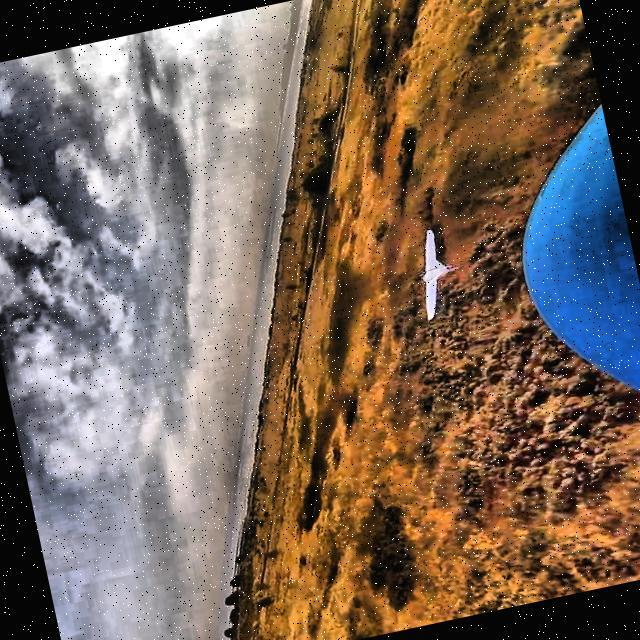iha: (427, 245, 444, 292)
